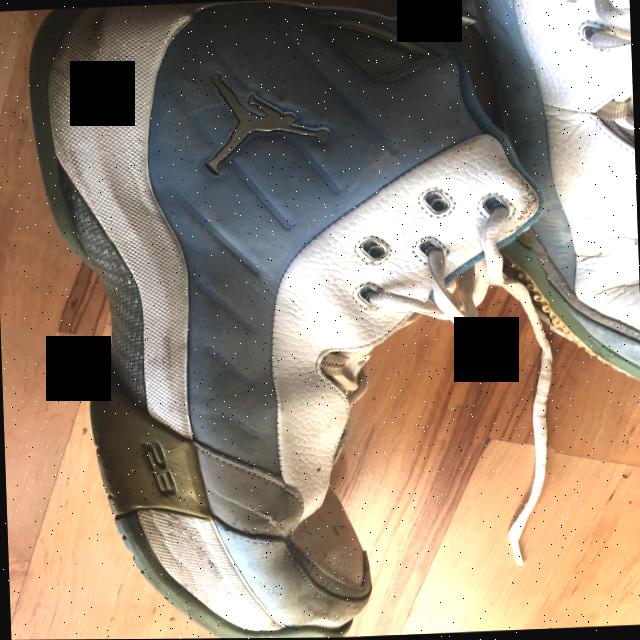shoe: (34, 0, 560, 640)
